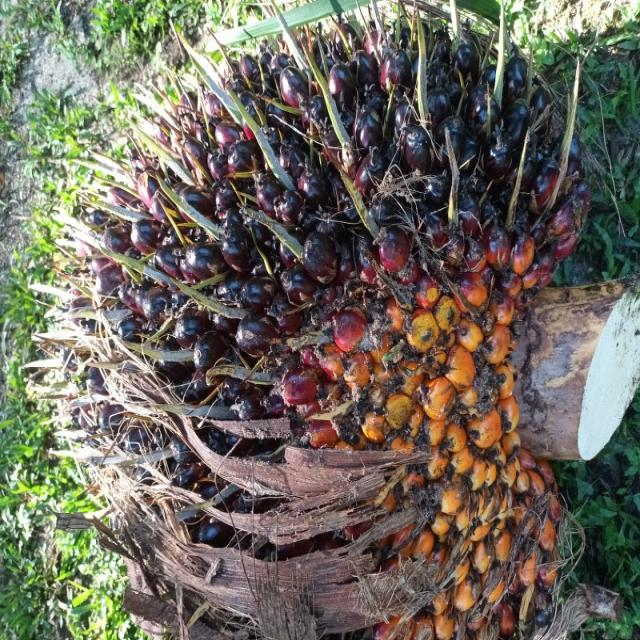fraksi 1: (0, 19, 480, 640)
